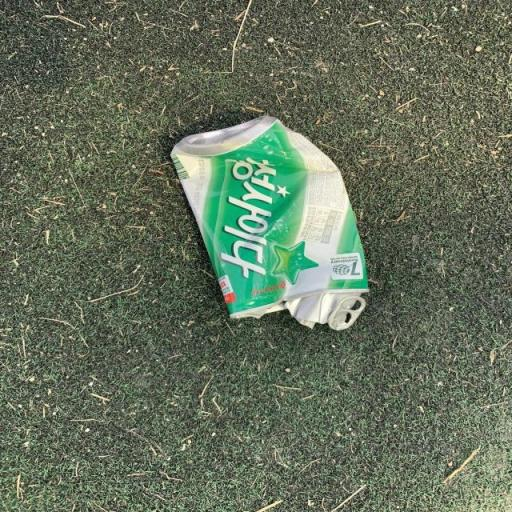metal: (150, 105, 384, 370)
